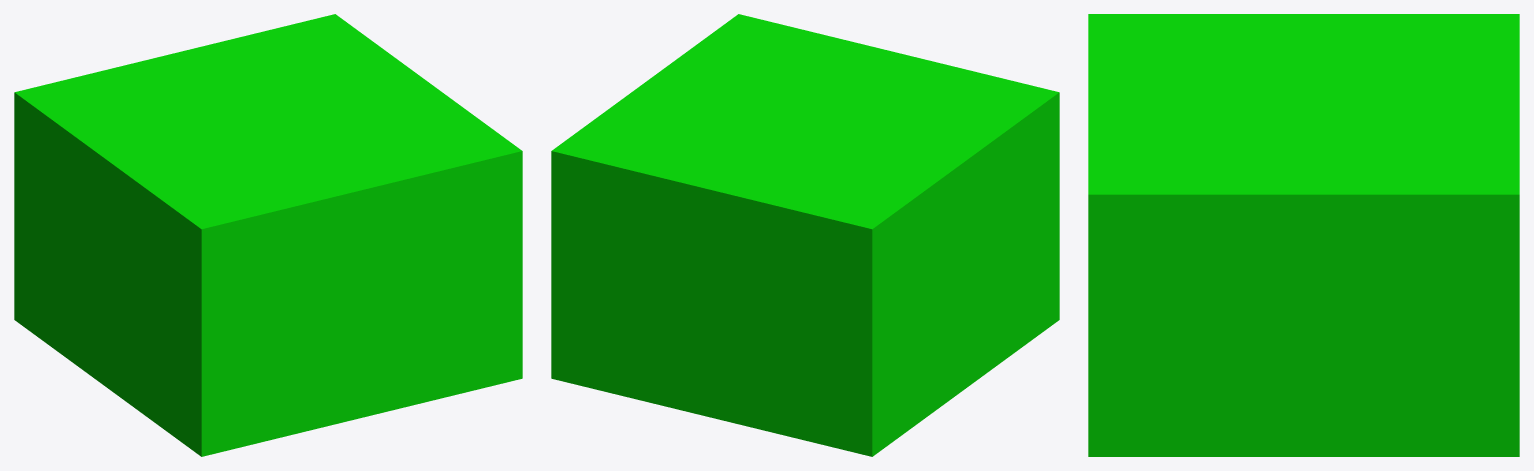
File: Level_Walls.fbx
The picture shows the model from 3 angles, left to right: view 1: azimuth 30°, elevation 25°; view 2: azimuth 150°, elevation 25°; view 3: azimuth 270°, elevation 25°; orthographic projection. The views are drawn at different scales.
Parts seen in each view (by area): view 1: Roof_Side_Walls, BackGround2_Wall, BackGround1_Wall; view 2: Roof_Side_Walls, BackGround1_Wall, BackGround2_Wall; view 3: Roof_Side_Walls, BackGround1_Wall, BackGround2_Wall.
Part boxes in pixels (bbox=[...]): Roof_Side_Walls: bbox=[16, 15, 521, 455]; BackGround2_Wall: bbox=[200, 150, 522, 456]; BackGround1_Wall: bbox=[14, 14, 336, 320]; Roof_Side_Walls: bbox=[553, 14, 1058, 455]; BackGround1_Wall: bbox=[551, 149, 873, 456]; BackGround2_Wall: bbox=[738, 14, 1059, 320]; Roof_Side_Walls: bbox=[1090, 14, 1515, 456]; BackGround1_Wall: bbox=[1515, 14, 1519, 456]; BackGround2_Wall: bbox=[1088, 14, 1090, 456].
Size of the model in its own units: 4745364 by 3245794 by 4793326.
